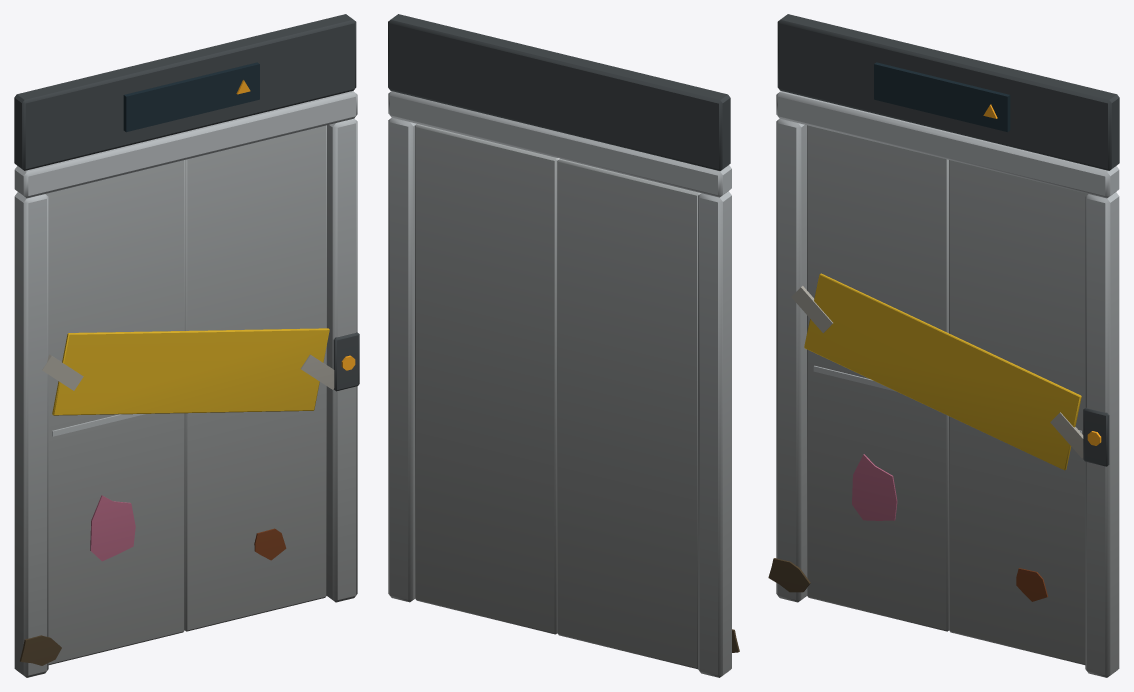
The model's file is 78_porte_ascenseur.fbx.
The picture shows the model from 3 angles, left to right: view 1: azimuth 30°, elevation 25°; view 2: azimuth 150°, elevation 25°; view 3: azimuth 330°, elevation 25°; orthographic projection.
Parts seen in each view (by area): view 1: Encadrement, PorteDroite, PorteGauche, PanneauEnPanne, Indicateur; view 2: PorteDroite, PorteGauche, Encadrement; view 3: Encadrement, PorteGauche, PorteDroite, PanneauEnPanne, Indicateur.
Part boxes in pixels (box(x1,y1,x2,y2)): Encadrement: box(14, 14, 359, 677); PorteDroite: box(185, 125, 326, 631); PorteGauche: box(45, 160, 184, 664); PanneauEnPanne: box(42, 328, 334, 415); Indicateur: box(123, 62, 259, 132); PorteDroite: box(415, 124, 558, 634); PorteGauche: box(557, 158, 700, 669); Encadrement: box(388, 14, 739, 677); Encadrement: box(768, 14, 1119, 677); PorteGauche: box(807, 125, 948, 631); PorteDroite: box(949, 160, 1088, 664); PanneauEnPanne: box(791, 273, 1083, 470); Indicateur: box(874, 62, 1010, 132).
Bounding box in the file's own units: 1.12 × 1.82 × 0.084.
1 material, 1 textured.
